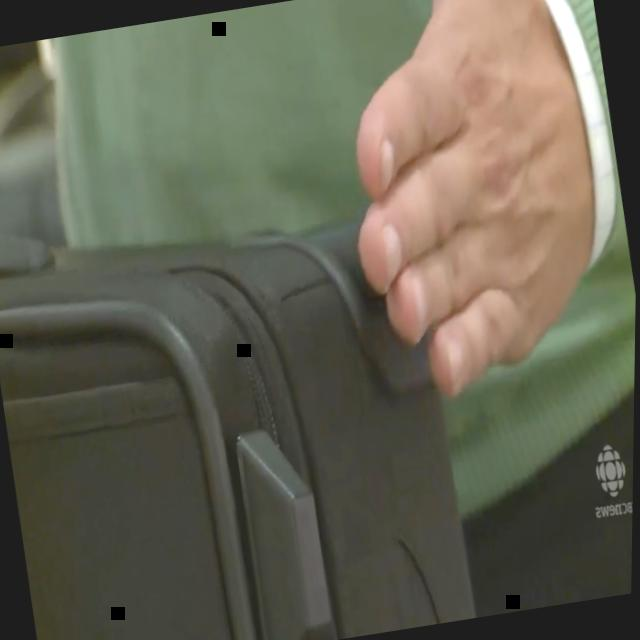luggage: (0, 238, 468, 640)
